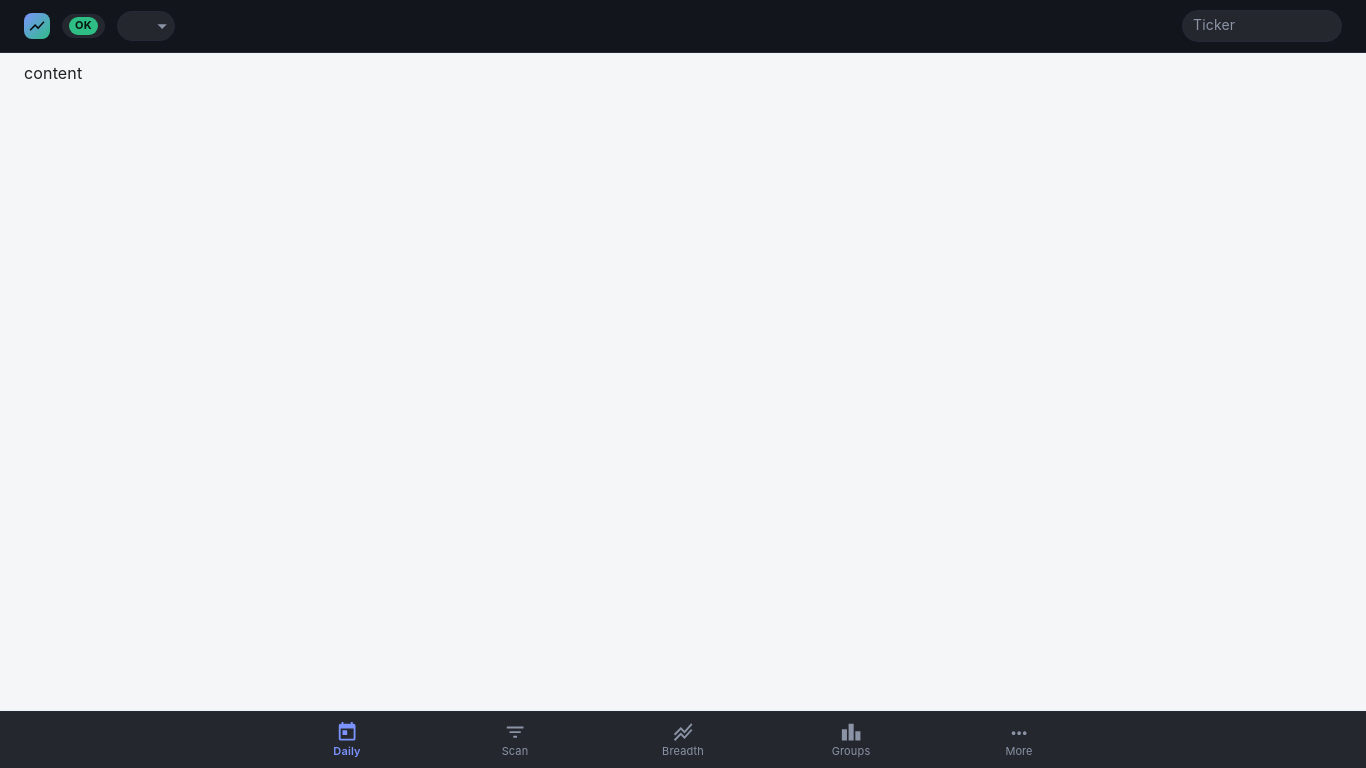
Scenario: Layout › on a phone-width screen › has no Scheduled tasks item in the More sheet
Click the button "More". click: coordinates (1019, 740)
box: [935,712,1103,767]
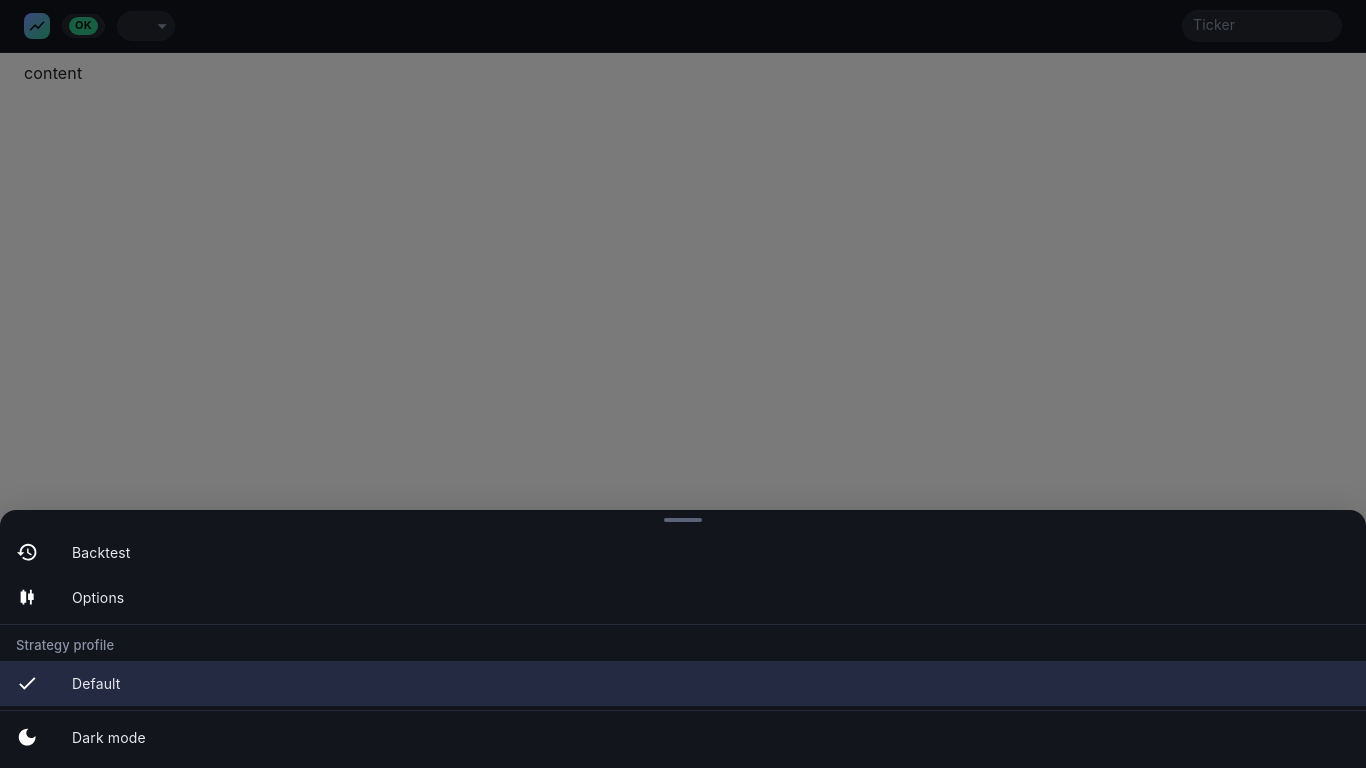
Result: the list named "More" is shown at [0,522,1365,767]
